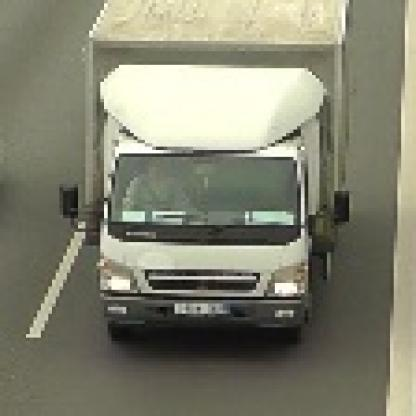truck: (60, 1, 350, 345)
